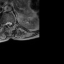CCS_normal: (7, 20, 9, 30)
LFS_stenosis: (12, 20, 14, 26)
LLS_normal: (9, 20, 12, 27)
RFS_stenosis: (3, 21, 5, 27)
RLS_normal: (5, 20, 7, 28)
